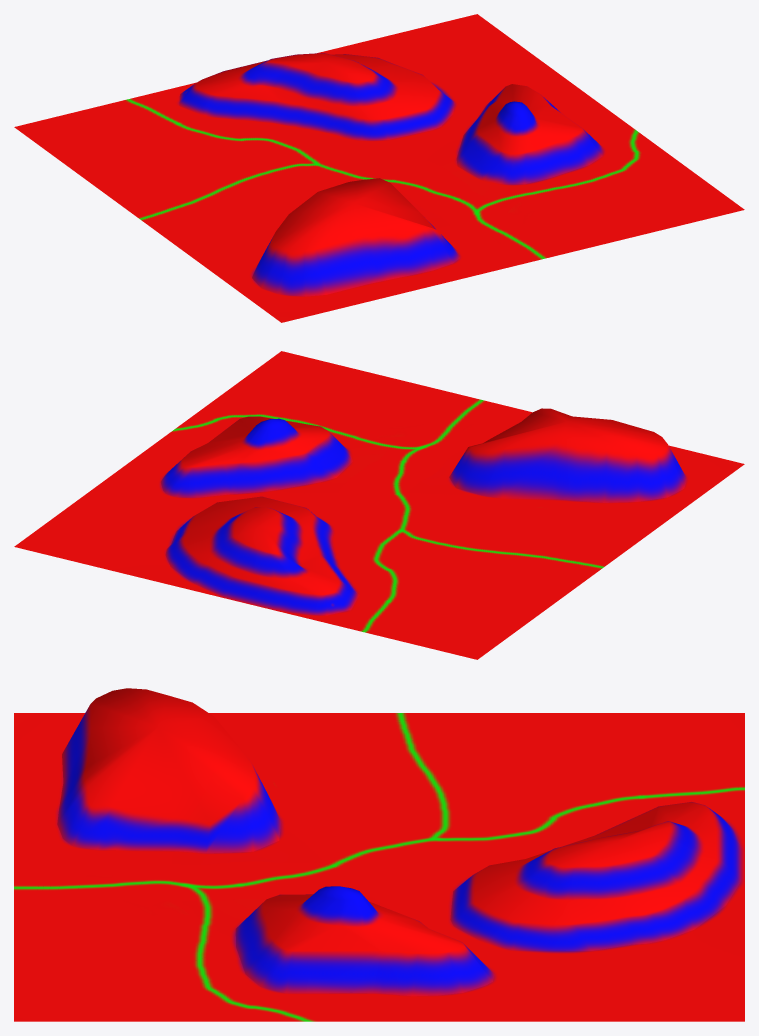
File: terrain.glb
3 views of the same model, one above another, from view 1: azimuth 30°, elevation 25°; view 2: azimuth 150°, elevation 25°; view 3: azimuth 270°, elevation 25° (orthographic). The views are drawn at different scales.
Parts seen in each view (by area): view 1: terrainStart; view 2: terrainStart; view 3: terrainStart.
Boxes of the visible parts, box(x1,y1,x2,y2) form: terrainStart: box(14, 14, 744, 322); terrainStart: box(14, 351, 744, 659); terrainStart: box(14, 688, 744, 1021).
Bounding box in the file's own units: 801 × 83.76 × 801.
1 material, 1 textured.
